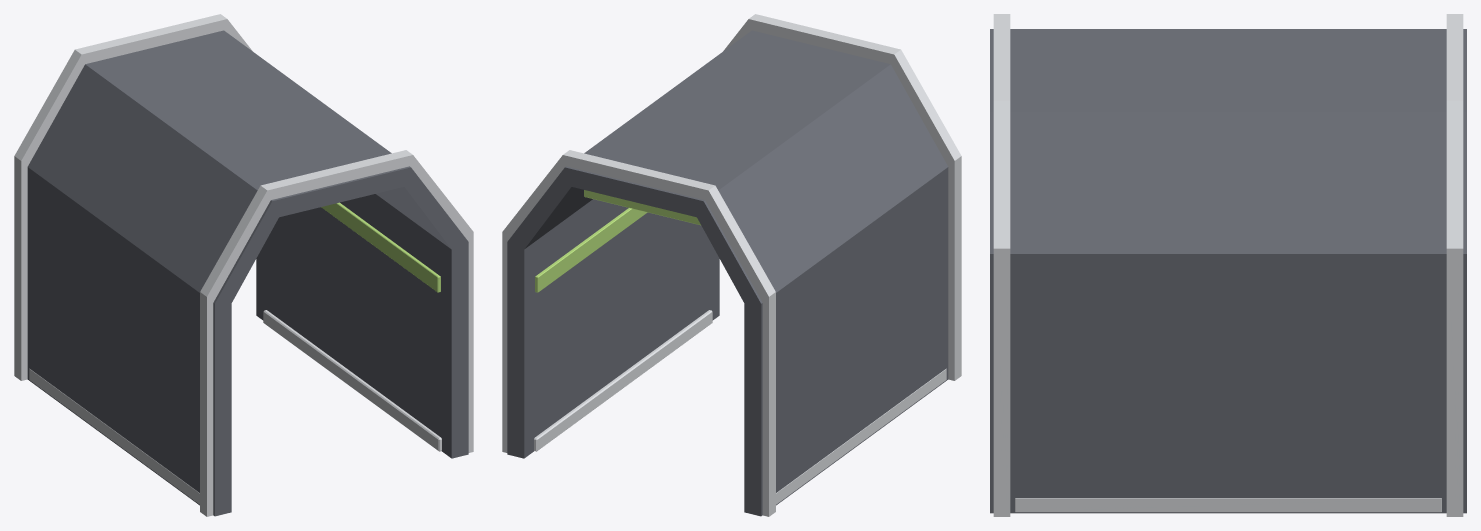
Rendered from laser-tag-arena-and-activity-centre-arena-tunnel-secti-a5e15507__34478.glb.
3 views of the same model, side by side, from view 1: azimuth 30°, elevation 25°; view 2: azimuth 150°, elevation 25°; view 3: azimuth 270°, elevation 25° (orthographic). The views are drawn at different scales.
Parts seen in each view (by area): view 1: arena-tunnel-section; view 2: arena-tunnel-section; view 3: arena-tunnel-section.
Part boxes in pixels (left/top/right/bottom): arena-tunnel-section: left=14, top=14, right=473, bottom=516; arena-tunnel-section: left=502, top=14, right=961, bottom=516; arena-tunnel-section: left=990, top=14, right=1466, bottom=516.
Size of the model in its own units: 1.58 by 1.76 by 2.
